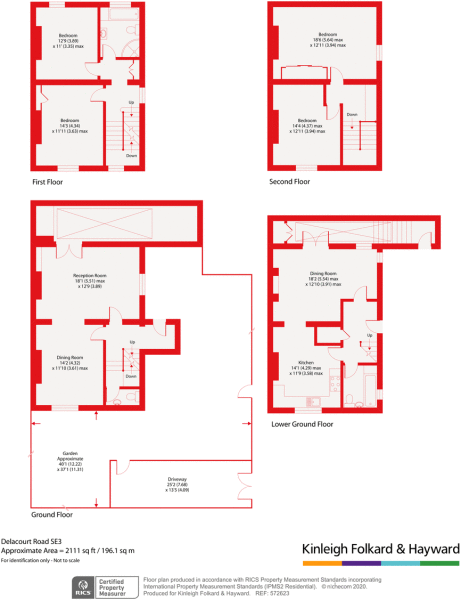GardenMeasurements: (53, 447, 87, 474)
GrossArea: (1, 546, 136, 555)
